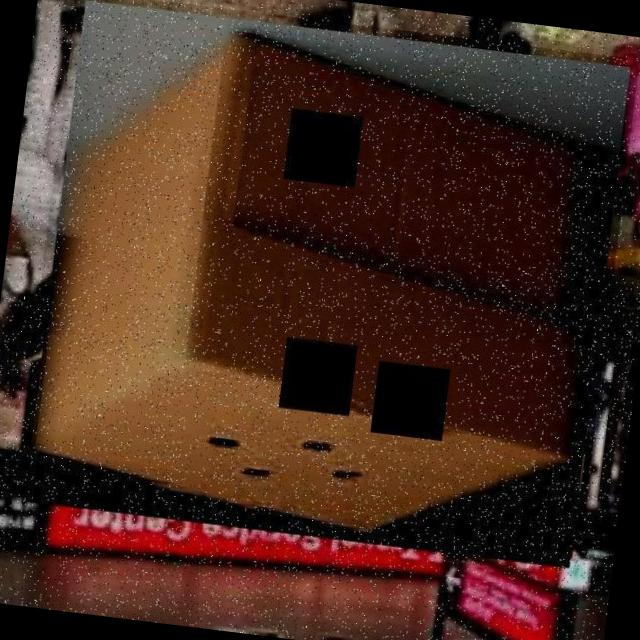box: (12, 0, 639, 575)
